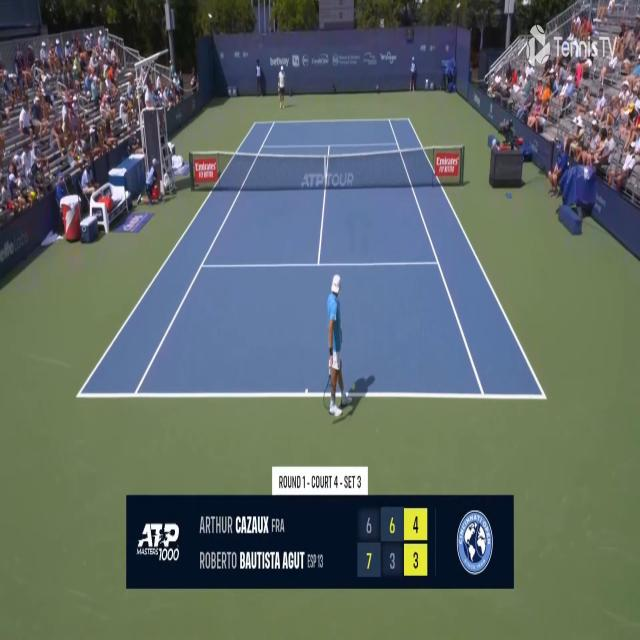tennis-player: (323, 272, 351, 423), (276, 66, 287, 109)
